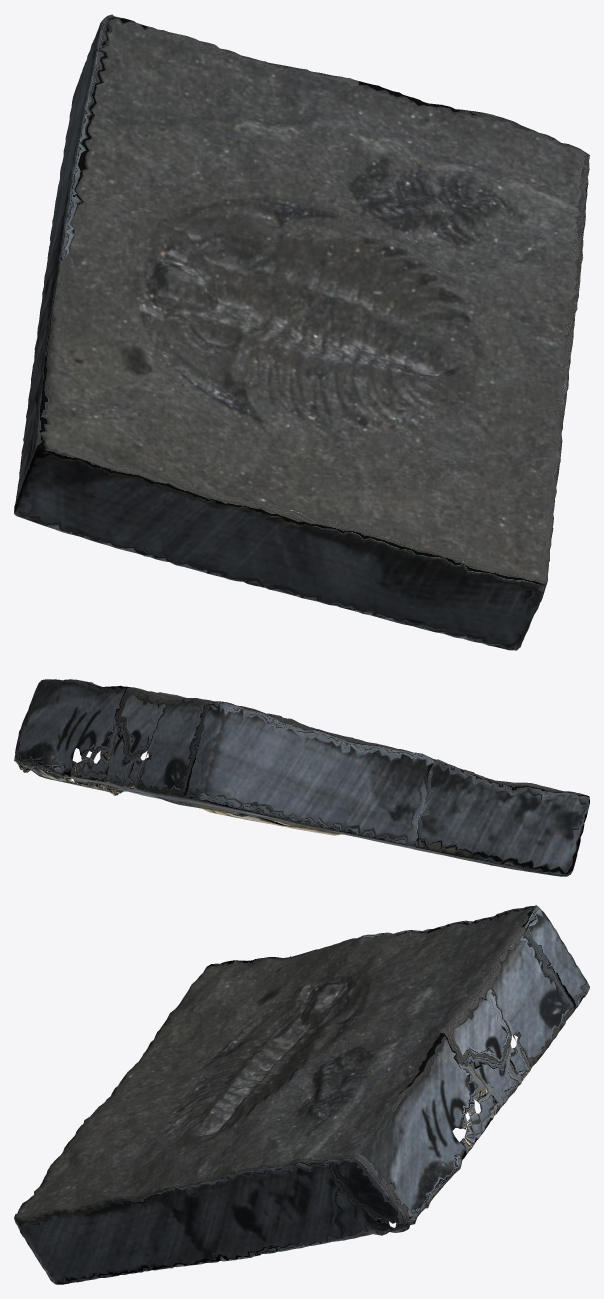
File: nmnhpaleo_poliella-prima-walcott.glb
3 views of the same model, one above another, from view 1: azimuth 30°, elevation 25°; view 2: azimuth 150°, elevation 25°; view 3: azimuth 270°, elevation 25° (orthographic). The views are drawn at different scales.
Parts seen in each view (by area): view 1: Spinlab_Piece; view 2: Spinlab_Piece; view 3: Spinlab_Piece.
Part boxes in pixels (box(x1,y1,x2,y2)): Spinlab_Piece: box(14, 14, 589, 650); Spinlab_Piece: box(14, 679, 589, 876); Spinlab_Piece: box(14, 905, 589, 1284).
Bounding box in the file's own units: 3.45 × 2.2 × 3.37.
1 material, 1 textured.
